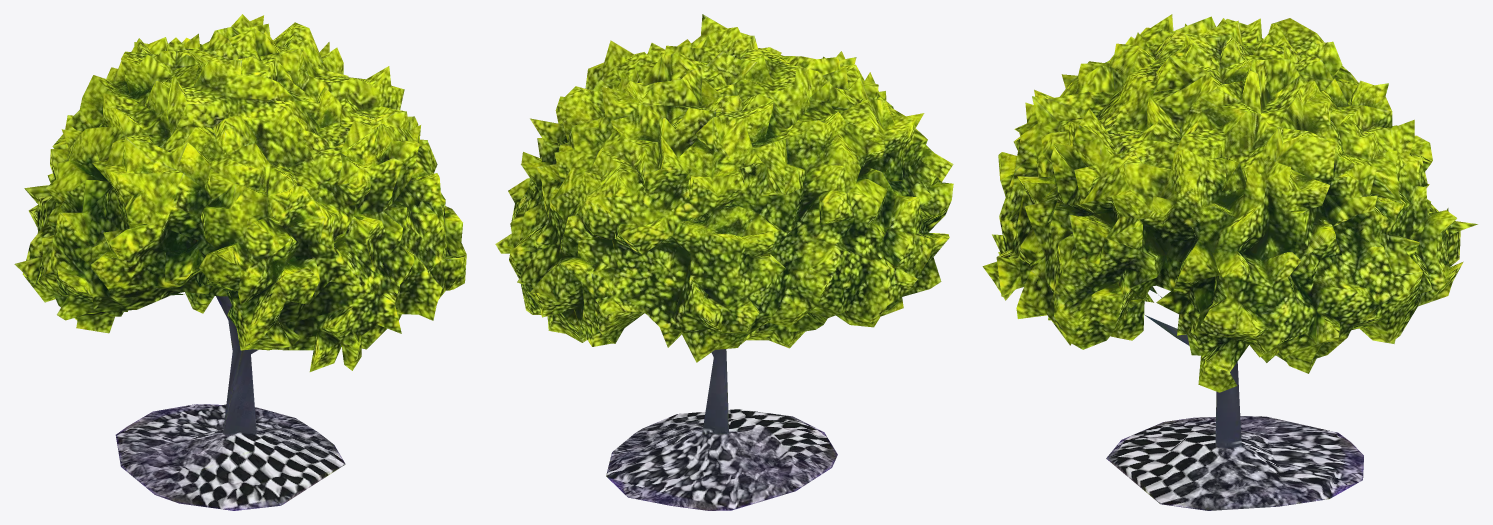
File: tree.opt.glb
3 renders of one model, left to right at view 1: azimuth 30°, elevation 25°; view 2: azimuth 150°, elevation 25°; view 3: azimuth 270°, elevation 25°, orthographic. The views are drawn at different scales.
Visible parts, largest first — view 1: Mesh_0; view 2: Mesh_0; view 3: Mesh_0.
Part boxes in pixels (x1=…): Mesh_0: x1=14, y1=14, x2=466, y2=510; Mesh_0: x1=495, y1=14, x2=953, y2=510; Mesh_0: x1=982, y1=14, x2=1477, y2=510.
Size of the model in its own units: 1.87 by 1.8 by 1.9.
1 material, 1 textured.
